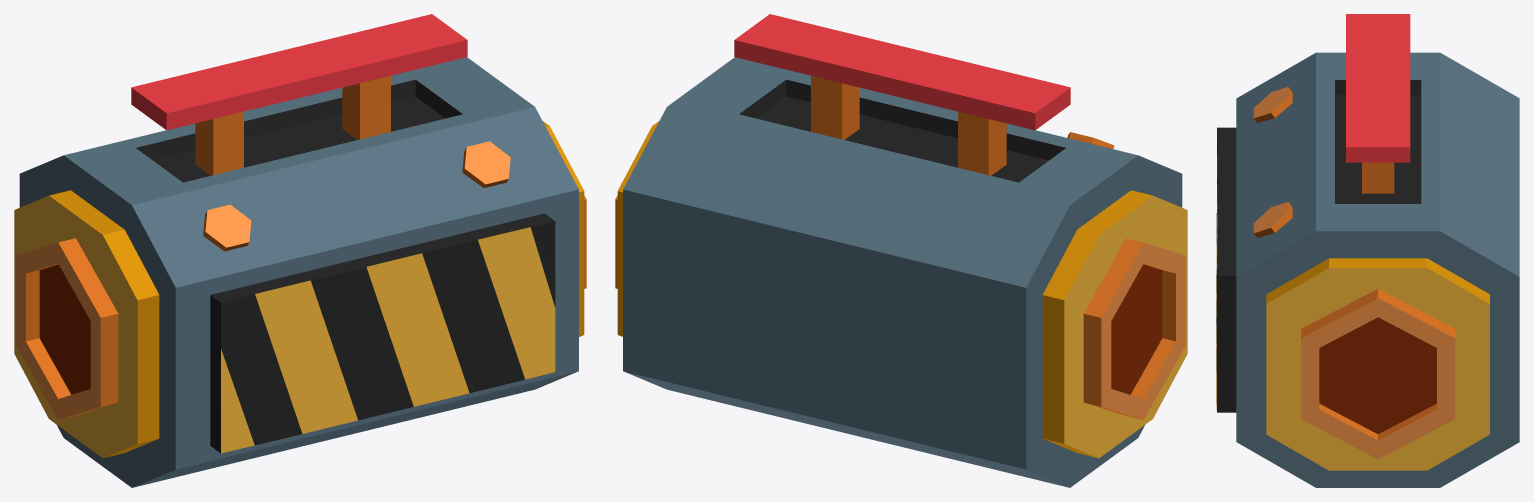
The model's file is Charger_02.glb.
3 views of the same model, side by side, from view 1: azimuth 30°, elevation 25°; view 2: azimuth 150°, elevation 25°; view 3: azimuth 270°, elevation 25° (orthographic). The views are drawn at different scales.
Parts seen in each view (by area): view 1: Charger_02; view 2: Charger_02; view 3: Charger_02.
Part boxes in pixels (bbox=[...]): Charger_02: bbox=[14, 14, 586, 487]; Charger_02: bbox=[615, 14, 1187, 487]; Charger_02: bbox=[1216, 14, 1519, 487].
Size of what is drawn, in the model's own units: 0.7651 by 0.5267 by 0.4557.
1 material, 1 textured.
